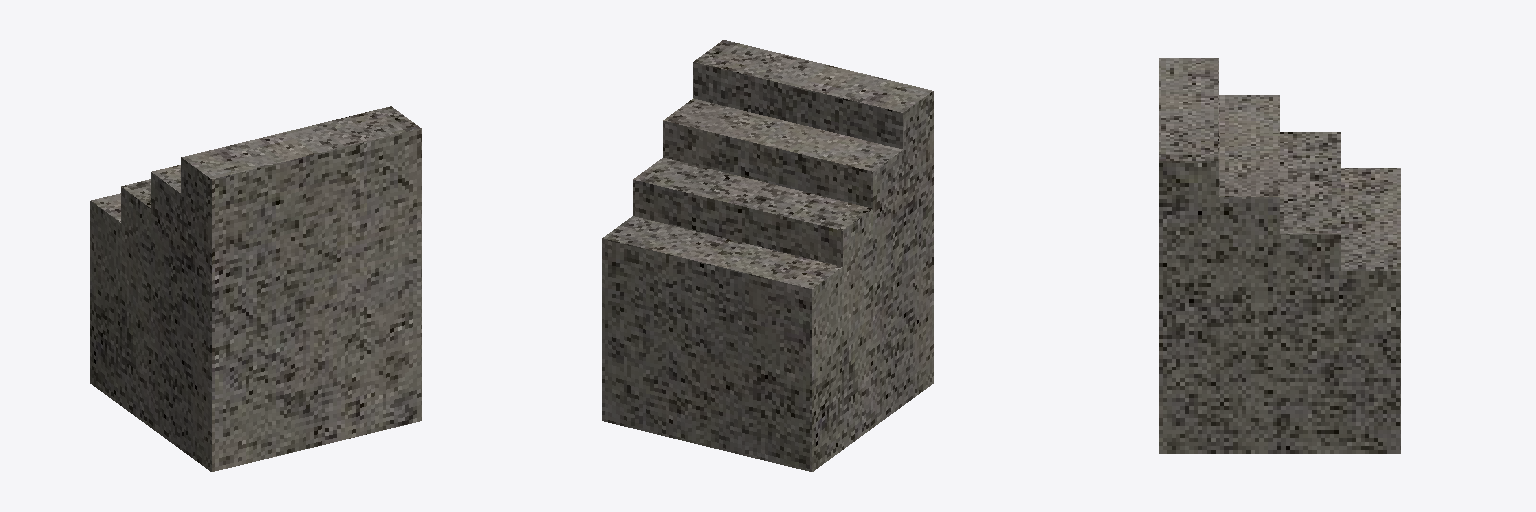
The picture shows the model from 3 angles: view 1: azimuth 30°, elevation 25°; view 2: azimuth 150°, elevation 25°; view 3: azimuth 270°, elevation 25°; orthographic projection.
Bounding box in the file's own units: 1 × 1.33 × 1.
Materials: 1 (1 with a texture image).